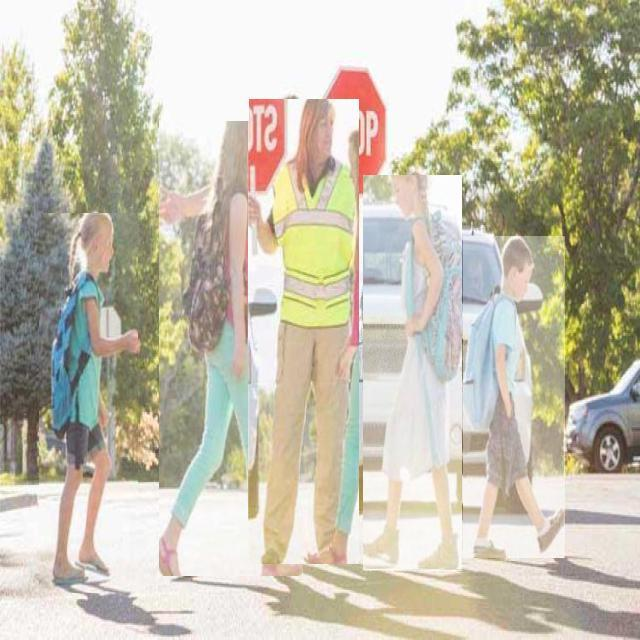without scooter: (160, 121, 304, 576), (249, 99, 359, 564), (363, 176, 462, 572), (40, 213, 140, 593), (464, 236, 566, 558)
